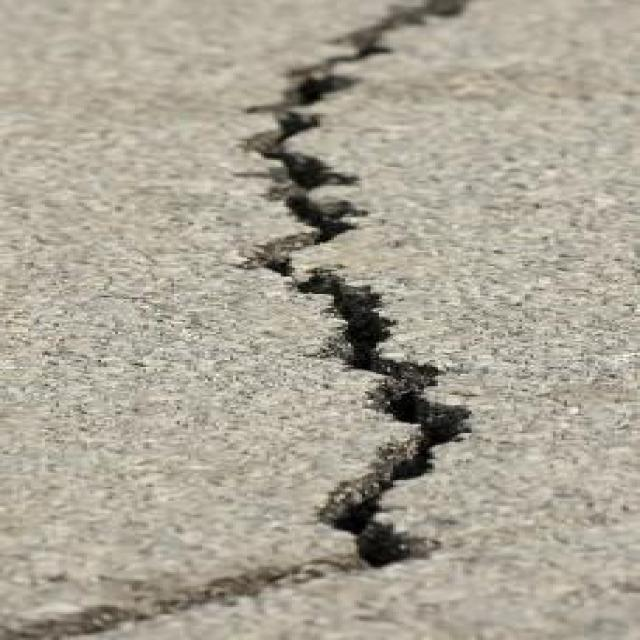Crack: (0, 476, 399, 637), (258, 3, 402, 434), (399, 277, 480, 620)
